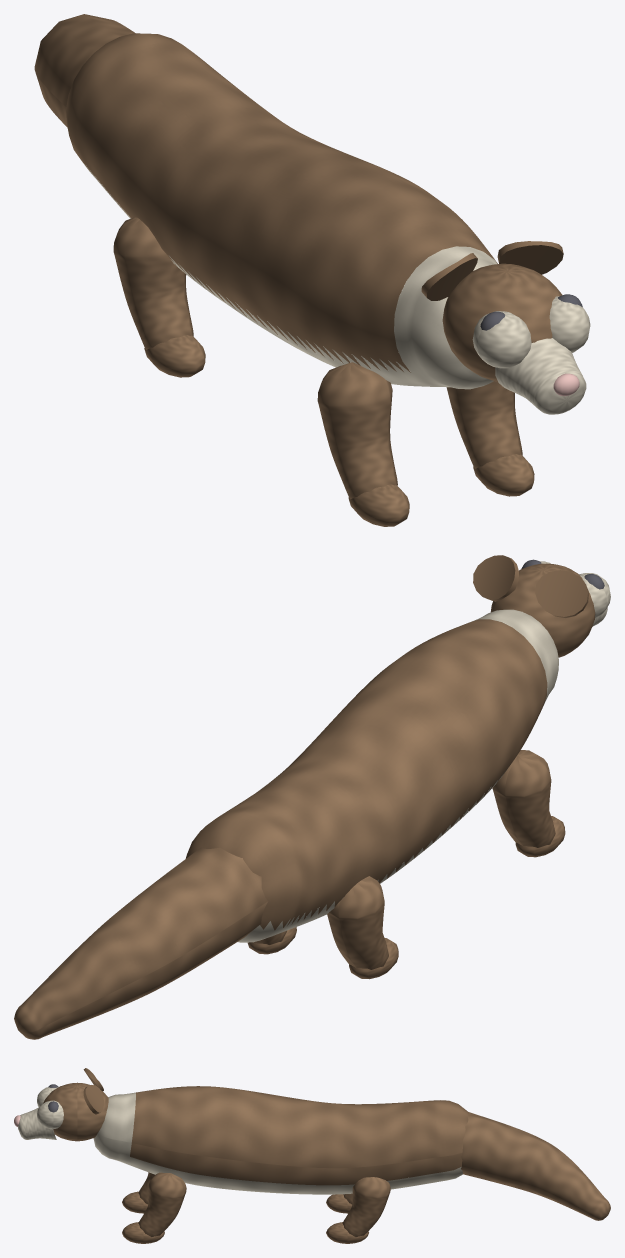
Rendered from pets-and-companions-hd-ferret-f12e5104__28160.glb.
The picture shows the model from 3 angles, top to bottom: view 1: azimuth 30°, elevation 25°; view 2: azimuth 150°, elevation 25°; view 3: azimuth 270°, elevation 25°; orthographic projection. The views are drawn at different scales.
Parts seen in each view (by area): view 1: ferret; view 2: ferret; view 3: ferret.
Part boxes in pixels (x1,y1,x2,y2): ferret: (34, 14, 590, 526); ferret: (14, 555, 610, 1039); ferret: (14, 1068, 610, 1243).
Size of the model in its own units: 0.1047 by 0.1368 by 0.4972.
Materials: 4 (2 with a texture image).
